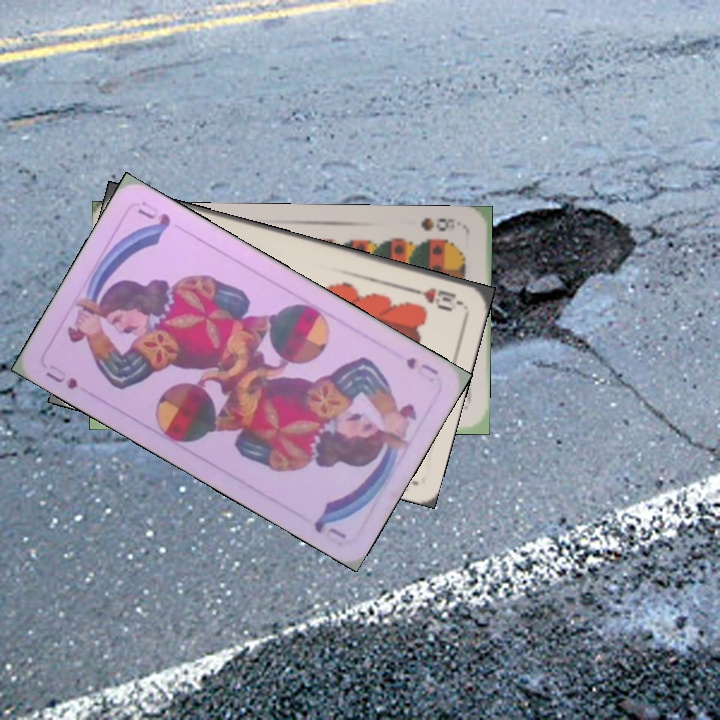H10: (405, 283, 464, 311)
S8: (417, 213, 458, 233)
SU: (41, 360, 81, 393), (401, 353, 441, 378)
